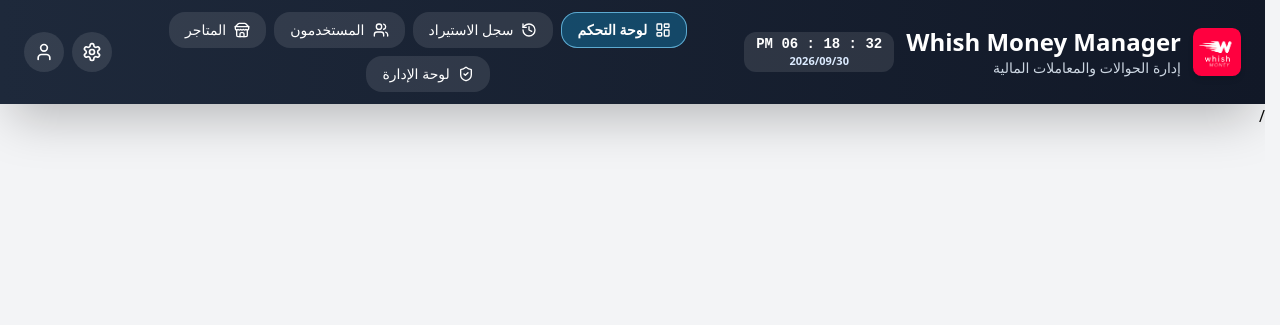
Scenario: the account menu › is an icon button that opens a menu with who is signed in, the profile and Log out
The width and height of the screenshot is (1280, 325).
Click the button with test id "user-menu-button".
click(44, 52)  # box x1=24 y1=32 x2=64 y2=72
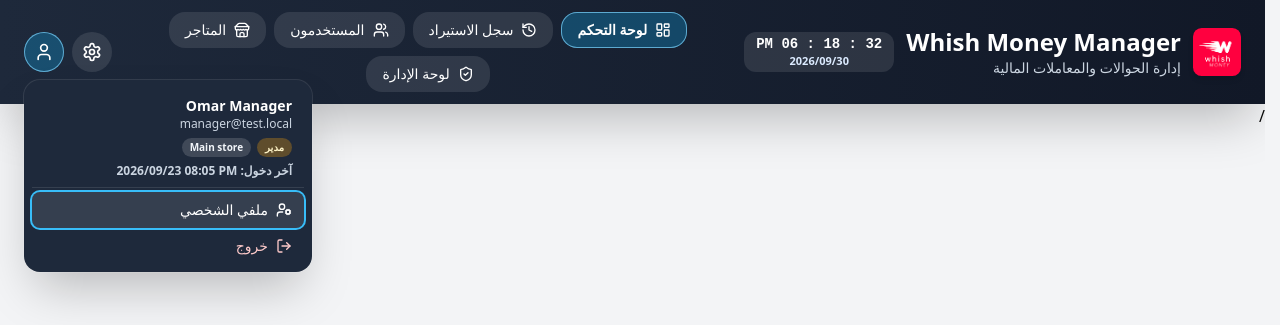
Expected: the button with test id "user-menu-button" is expanded, x1=24 y1=32 x2=64 y2=72
Expected: the element with test id "user-menu-identity" shows "Omar Manager", x1=186 y1=96 x2=292 y2=115
Expected: the element with test id "user-menu-identity" shows "manager@test.local", x1=180 y1=115 x2=292 y2=132
